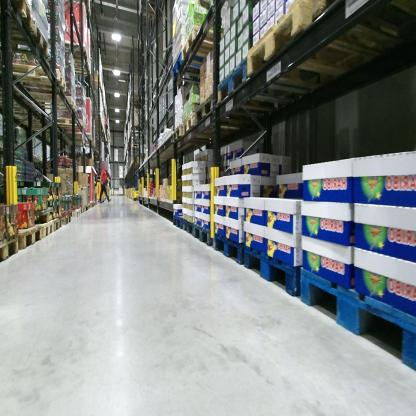pallet: (247, 2, 403, 92), (293, 262, 414, 377), (310, 2, 415, 52), (219, 63, 314, 112), (242, 245, 301, 305), (181, 30, 239, 75), (197, 94, 262, 128), (7, 60, 67, 93), (181, 110, 253, 136), (3, 20, 49, 56), (170, 57, 227, 85), (20, 91, 80, 113), (214, 235, 245, 268), (0, 4, 37, 25), (16, 225, 40, 253), (192, 221, 213, 252), (2, 238, 22, 268), (172, 124, 195, 149), (48, 116, 88, 130), (63, 43, 91, 63), (70, 58, 92, 75), (46, 216, 64, 236), (181, 216, 194, 241), (36, 220, 54, 237), (170, 212, 181, 234), (68, 209, 81, 222), (60, 213, 71, 227), (78, 206, 83, 217), (82, 206, 86, 214), (87, 204, 91, 211), (91, 203, 94, 208)
